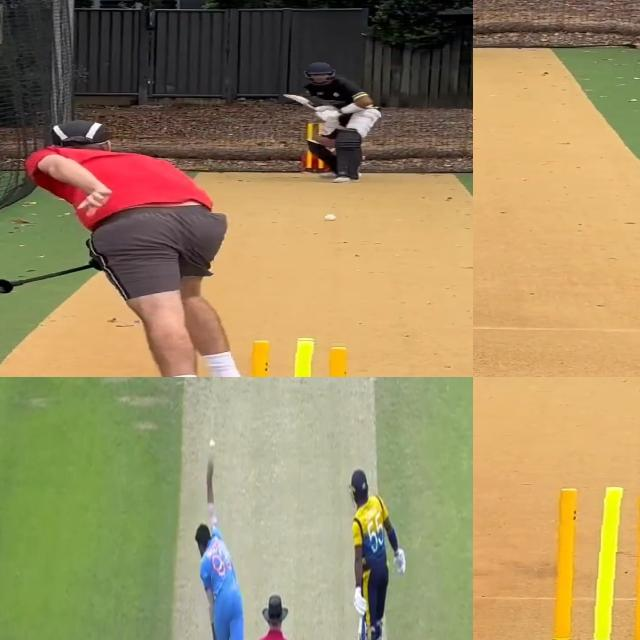Cricket ball: (209, 437, 217, 454), (326, 214, 340, 222)
Stumps: (541, 484, 640, 640), (231, 336, 368, 377)
